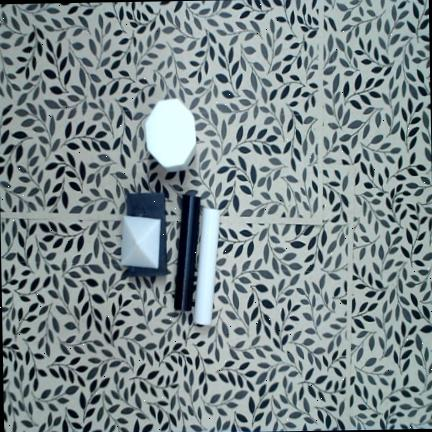Cilindro: (194, 207, 220, 325), (174, 194, 200, 311)
Paralelepipedo: (126, 192, 167, 275)
Piramide: (120, 214, 161, 268)
Prisma_hexagonal: (144, 98, 196, 172)
